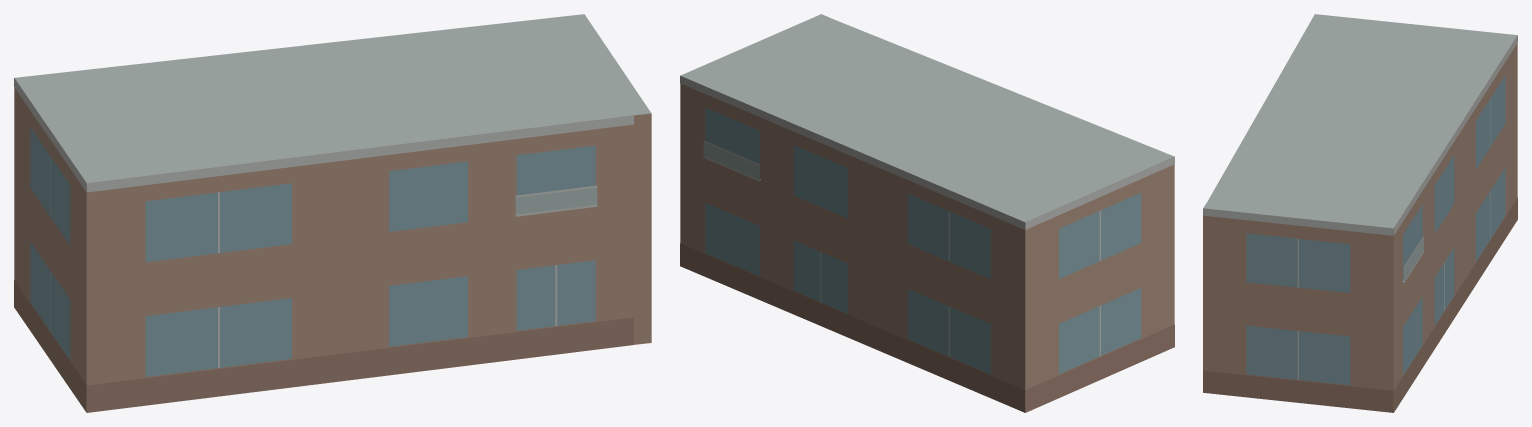
File: survey-upis-32775122.glb
3 views of the same model, side by side, from view 1: azimuth 30°, elevation 25°; view 2: azimuth 150°, elevation 25°; view 3: azimuth 270°, elevation 25° (orthographic). The views are drawn at different scales.
Parts seen in each view (by area): view 1: survey-upis-32775122.tmp; view 2: survey-upis-32775122.tmp; view 3: survey-upis-32775122.tmp.
Part boxes in pixels (x1=…): survey-upis-32775122.tmp: x1=14, y1=14, x2=651, y2=412; survey-upis-32775122.tmp: x1=680, y1=14, x2=1174, y2=412; survey-upis-32775122.tmp: x1=1203, y1=14, x2=1517, y2=412.
Bounding box in the file's own units: 15.22 × 6.1 × 9.44.
